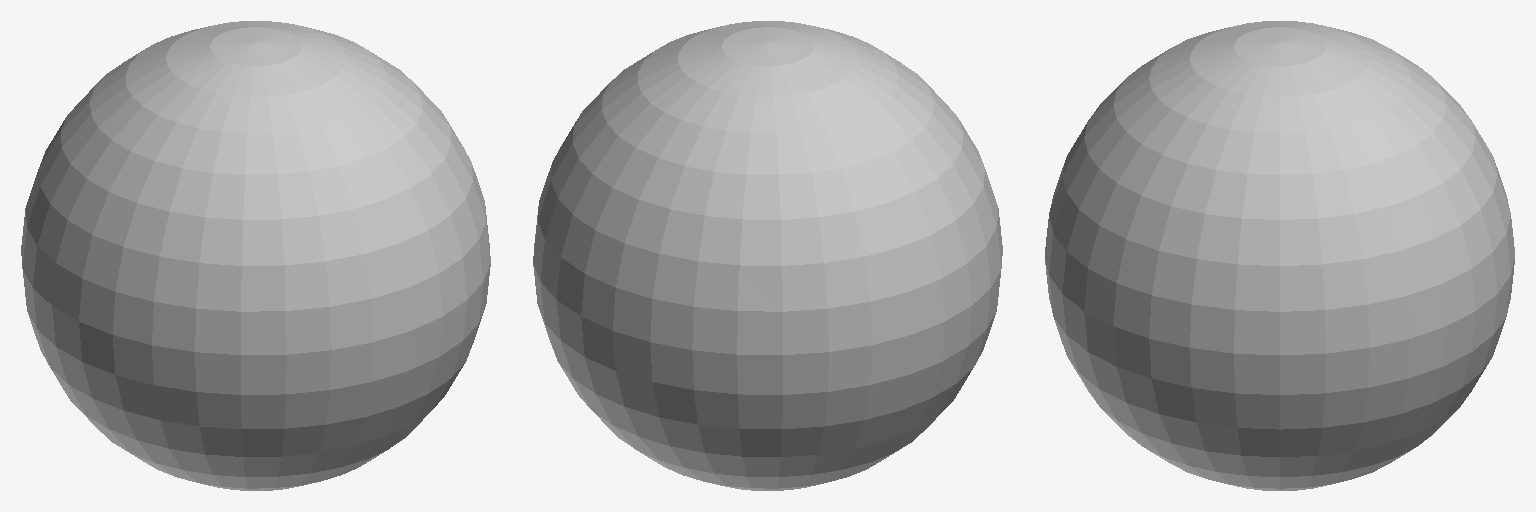
Rendered from ball.obj.
The picture shows the model from 3 angles: view 1: azimuth 30°, elevation 25°; view 2: azimuth 150°, elevation 25°; view 3: azimuth 270°, elevation 25°; orthographic projection.
Visible parts, largest first — view 1: Sphere001; view 2: Sphere001; view 3: Sphere001.
Boxes of the visible parts, <box> form: Sphere001: <box>21,21,490,490</box>; Sphere001: <box>533,21,1002,490</box>; Sphere001: <box>1045,21,1514,490</box>.
Bounding box in the file's own units: 4 × 4 × 4.